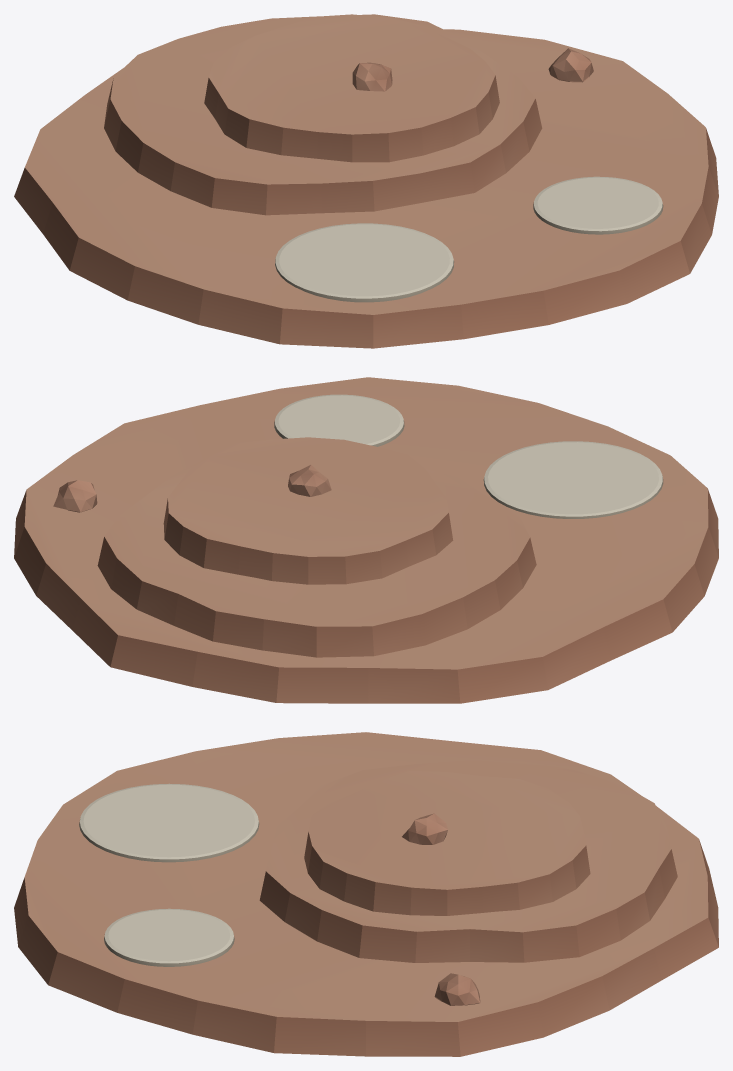
Rendered from terrain_hills.glb.
The picture shows the model from 3 angles, top to bottom: view 1: azimuth 30°, elevation 25°; view 2: azimuth 150°, elevation 25°; view 3: azimuth 270°, elevation 25°; orthographic projection.
Parts seen in each view (by area): view 1: hills_t1, hills_t2, hills_t3, pad_token_hills, pad_robber_hills, hills_b1, hills_b4; view 2: hills_t1, hills_t2, hills_t3, pad_token_hills, pad_robber_hills, hills_b1, hills_b4; view 3: hills_t1, hills_t2, hills_t3, pad_token_hills, pad_robber_hills, hills_b1, hills_b4.
Boxes of the visible parts, x1,y1,x2,y2 form: hills_t1: (14, 29, 718, 348); hills_t2: (104, 14, 542, 215); hills_t3: (204, 14, 499, 162); pad_token_hills: (275, 223, 454, 302); pad_robber_hills: (533, 176, 663, 234); hills_b1: (548, 48, 593, 82); hills_b4: (352, 62, 392, 91); hills_t1: (14, 377, 718, 703); hills_t2: (97, 458, 536, 657); hills_t3: (163, 437, 453, 584); pad_token_hills: (483, 441, 663, 518); pad_robber_hills: (274, 394, 404, 446); hills_b1: (53, 480, 97, 512); hills_b4: (288, 465, 331, 496); hills_t1: (14, 732, 718, 1056); hills_t2: (259, 760, 677, 962); hills_t3: (304, 770, 590, 915); pad_token_hills: (79, 783, 259, 862); pad_robber_hills: (104, 908, 234, 966); hills_b1: (434, 973, 480, 1005); hills_b4: (402, 813, 447, 844).
Size of the model in its own units: 1.56 by 0.2748 by 1.56.
